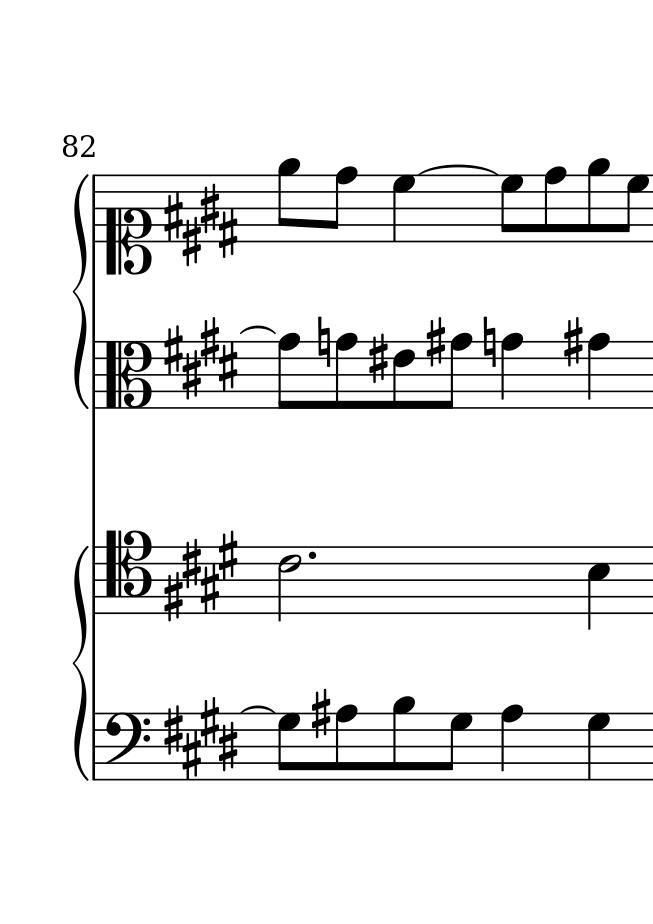2: (78, 133, 96, 159)
2_6: (277, 546, 300, 622)
4_5: (586, 545, 611, 633)
4_7: (586, 712, 612, 782), (391, 175, 416, 244)
4_8: (499, 703, 524, 781), (500, 331, 523, 411)
8: (60, 132, 78, 159)
8_6: (392, 339, 416, 411)
8_7: (442, 711, 473, 781), (621, 174, 648, 243), (499, 173, 525, 242), (276, 711, 301, 781)
8_8: (325, 164, 357, 244), (441, 332, 472, 411), (542, 165, 567, 245), (276, 332, 301, 411), (333, 703, 358, 782), (333, 332, 357, 411), (586, 332, 610, 410)
8_9: (391, 695, 415, 783), (586, 157, 610, 244), (277, 158, 299, 244)
Brace: (70, 173, 91, 410), (71, 542, 90, 781)
Cclef: (104, 338, 152, 411)
E_S: (162, 531, 240, 621), (159, 317, 238, 399), (163, 184, 239, 269), (163, 695, 239, 780)
Fclef: (102, 710, 150, 781)
Natural: (316, 316, 332, 370), (482, 316, 497, 370)
Sharp: (425, 316, 446, 369), (563, 316, 584, 369), (310, 687, 331, 740), (368, 333, 388, 385)
Single_barline: (88, 546, 103, 615), (89, 176, 102, 243), (89, 339, 101, 411), (90, 712, 101, 781)
Slur: (417, 163, 496, 175), (240, 325, 277, 336), (240, 704, 276, 714)
Soprano_Cclef: (104, 175, 150, 274)
Tensor_Cclef: (105, 530, 152, 613)
dot: (305, 549, 318, 561)
